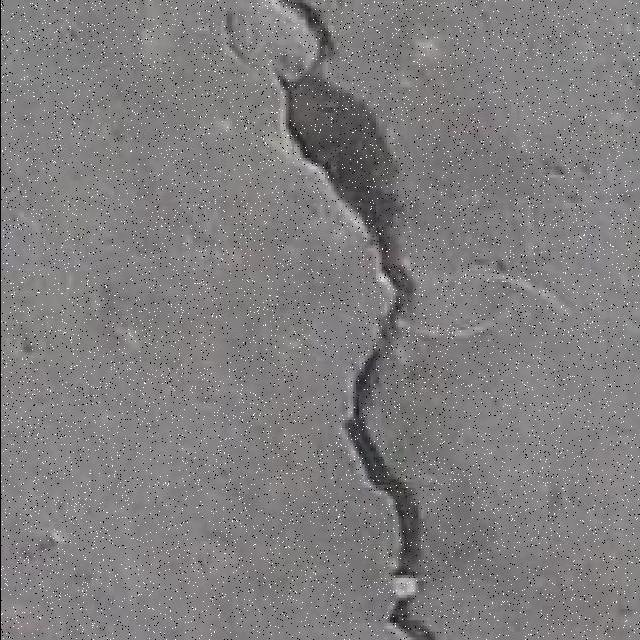Crack: (344, 285, 436, 638)
